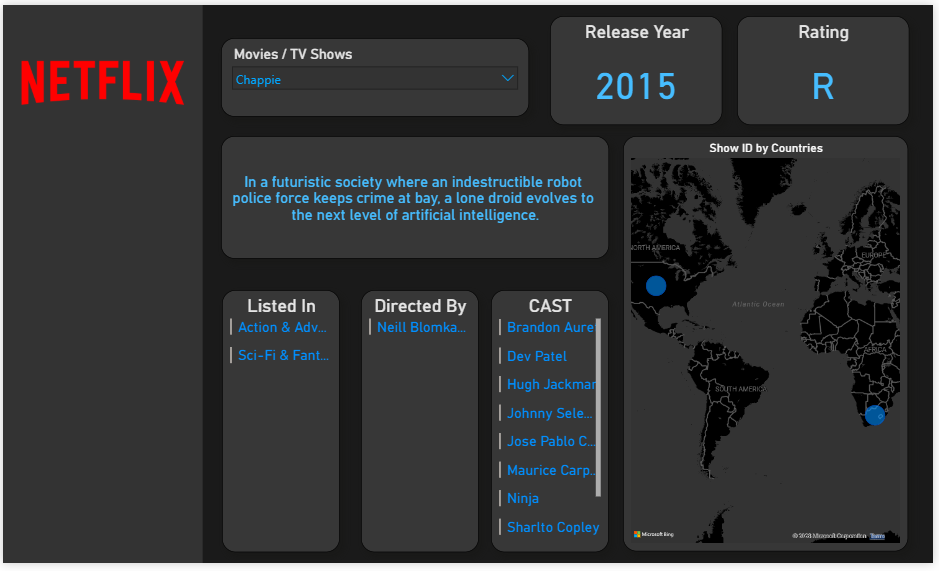

The page's visual inventory and layout, read from the dashboard file:
{"tool":"powerbi","page":{"name":"Details of a specific Mov / TV","canvas":[1500,900],"ordinal":1},"visuals":[{"type":"shape","box":[0,0,322,900],"z":0},{"type":"slicer","title":"Count of Show ID by Date ","fields":{"Values":["netflix_data netflix_titles.title"]},"box":[351.7,53.3,496.7,126.7],"z":1000},{"type":"card","title":"Rating ","fields":{"Values":["Min(netflix_data netflix_titles.rating)"]},"box":[1184,18,278,176],"z":2000},{"type":"map","title":" Show ID by Countries ","fields":{"Category":["netflix_data countries_released.country"],"Size":["CountNonNull(netflix_data countries_released.show_id)"]},"box":[1000,212,460,670],"z":3000},{"type":"image","box":[0,0,322,242],"z":4000},{"type":"card","title":"Release Year","fields":{"Values":["Sum(netflix_data netflix_titles.release_year)"]},"box":[882,18,278,176],"z":5000},{"type":"multiRowCard","title":"CAST","fields":{"Values":["netflix_data netflix_cast.cast"]},"box":[787.5,460,190,422.5],"z":6000},{"type":"multiRowCard","title":"Listed In","fields":{"Values":["netflix_data netflix_listed_in.category"]},"box":[352.5,460,190,422.5],"z":7000},{"type":"multiRowCard","title":"Directed By","fields":{"Values":["netflix_data netflix_directors.director"]},"box":[577.5,460,190,422.5],"z":8000},{"type":"card","title":"Description","fields":{"Values":["Min(netflix_data description.description)"]},"box":[352,212,626,198],"z":9000}]}

Visuals, with their boxes in screenshot pixels (x1, y1, x2, y2), scaled from the page's 1500x900 canvas onto the 939x571 screenshot:
shape: select_region(0, 0, 202, 570)
"Count of Show ID by Date " slicer: select_region(220, 34, 531, 114)
"Rating " card: select_region(741, 11, 915, 123)
" Show ID by Countries " map: select_region(626, 135, 914, 560)
image: select_region(0, 0, 202, 154)
"Release Year" card: select_region(552, 11, 726, 123)
"CAST" multiRowCard: select_region(493, 292, 612, 560)
"Listed In" multiRowCard: select_region(221, 292, 340, 560)
"Directed By" multiRowCard: select_region(362, 292, 480, 560)
"Description" card: select_region(220, 135, 612, 260)
